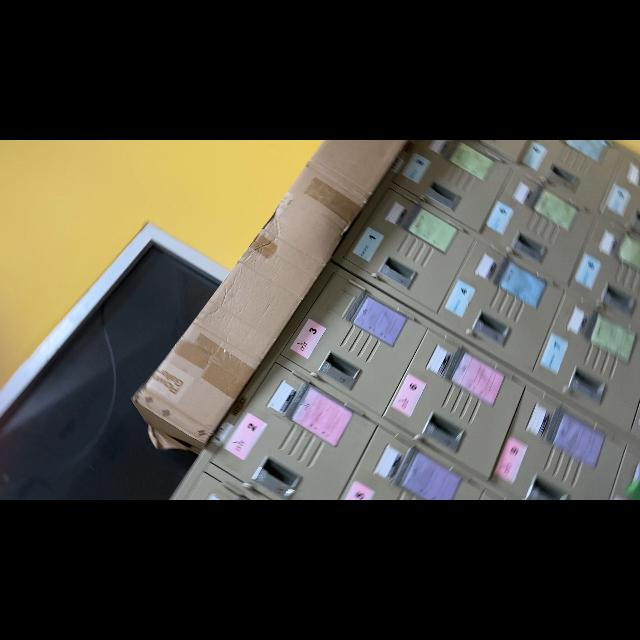cardboard_box: (122, 140, 408, 466)
